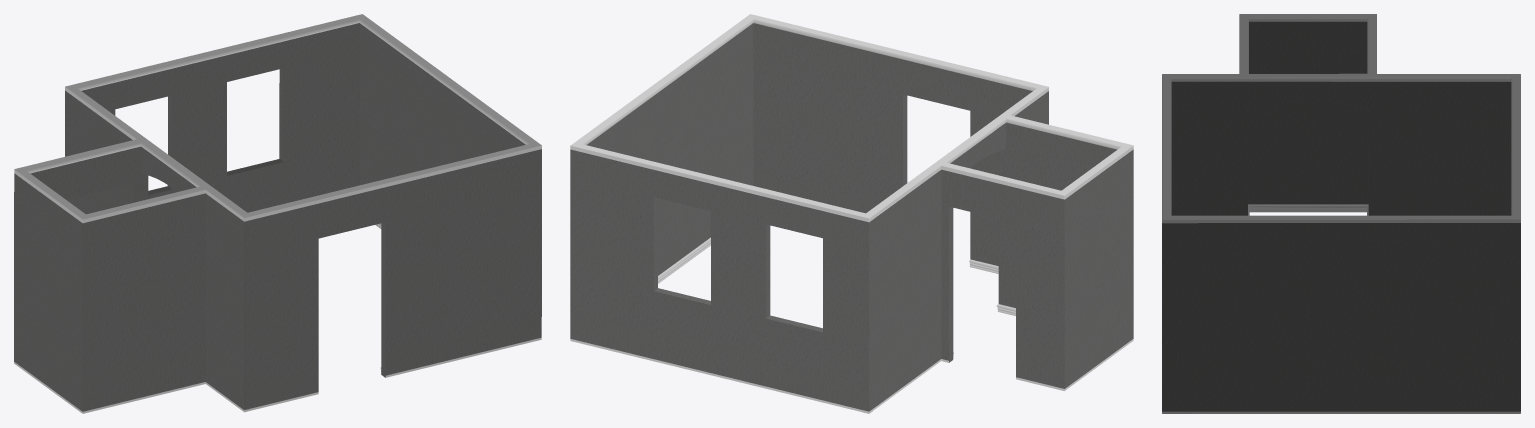
Rendered from FP324:StandardWallSize_022_9691c5c2.obj.
3 renders of one model, left to right at view 1: azimuth 30°, elevation 25°; view 2: azimuth 150°, elevation 25°; view 3: azimuth 270°, elevation 25°, orthographic.
Visible parts, largest first — view 1: FP324:StandardWallSize.022_9691c5c2; view 2: FP324:StandardWallSize.022_9691c5c2; view 3: FP324:StandardWallSize.022_9691c5c2.
Boxes of the visible parts, left/top/right/bottom form: FP324:StandardWallSize.022_9691c5c2: left=14, top=14, right=541, bottom=413; FP324:StandardWallSize.022_9691c5c2: left=570, top=14, right=1133, bottom=413; FP324:StandardWallSize.022_9691c5c2: left=1162, top=14, right=1520, bottom=413.
Bounding box in the file's own units: 5.65 × 2.5 × 4.17.
